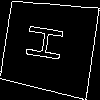H: (24, 21, 75, 66)
